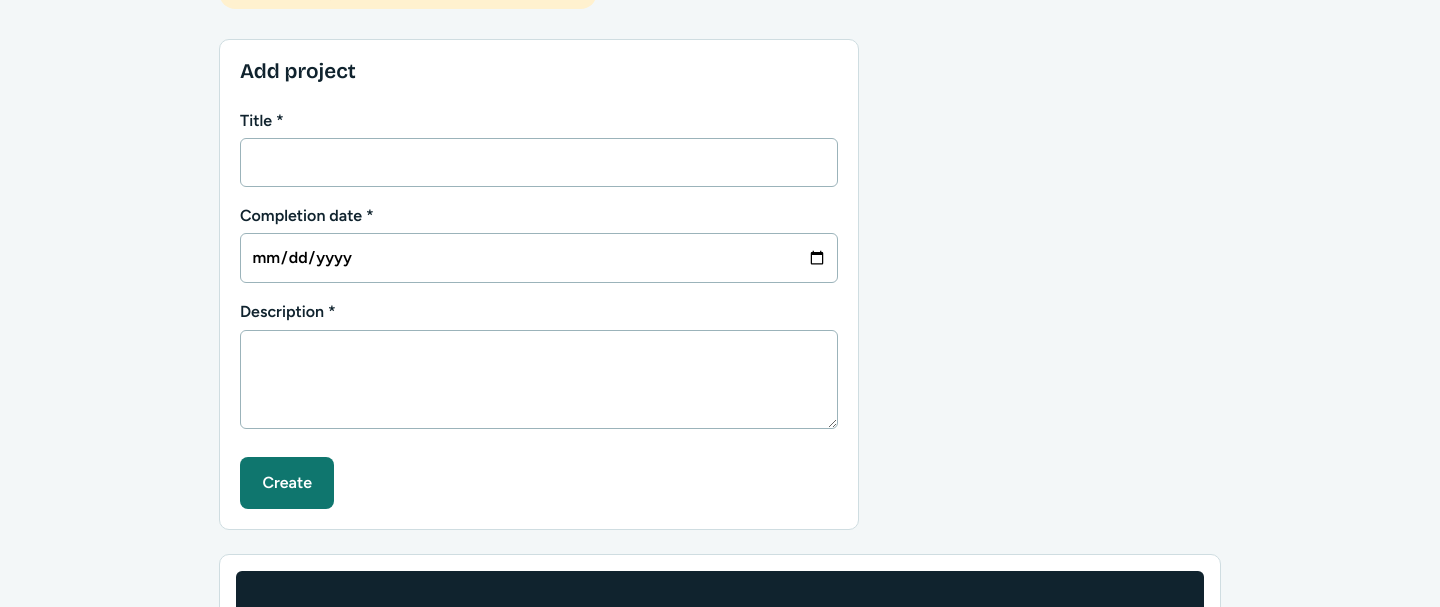
it: RecordManager on the Projects page › lets an administrator create a project: validates, sends the token, and reloads the list
The image size is (1440, 607).
Note: Empty submit: client-side validation blocks the request.
Click the button "Create" at (287, 483), box [240,457,334,509]
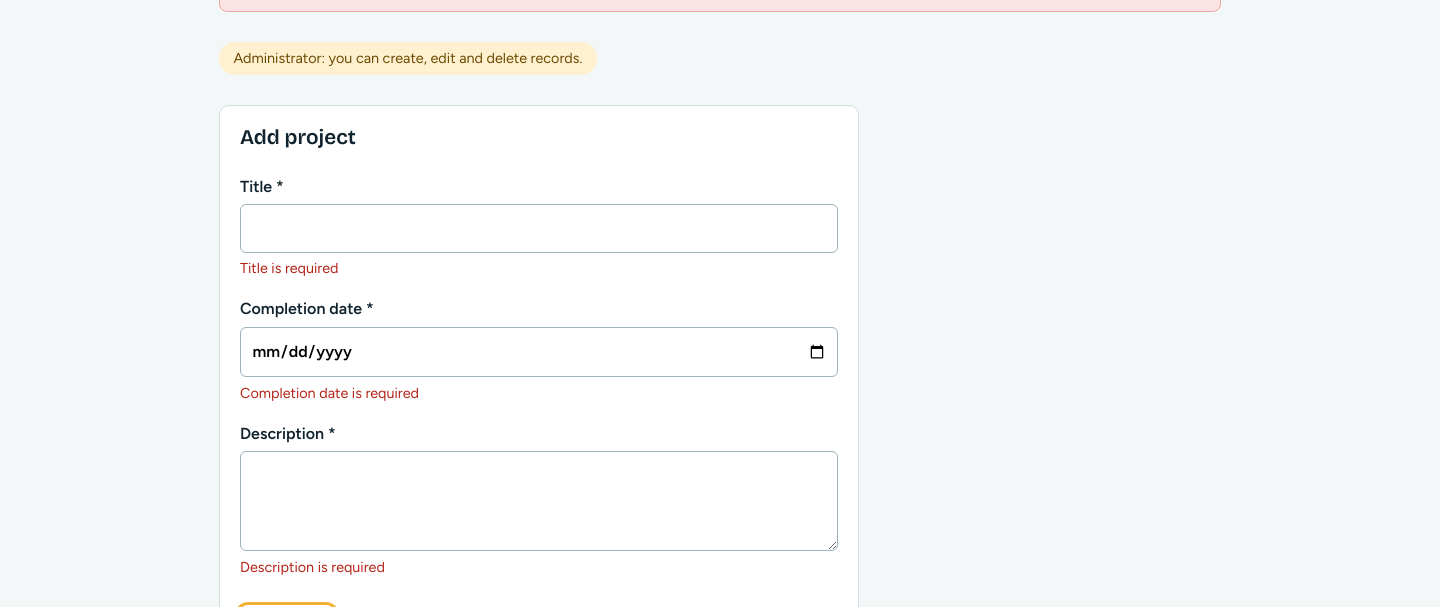
Now the text "Title is required" is shown, box [240,259,338,277]
Type "Weather App" into the field labelled "Title * Title is required" at (539, 228), box [240,204,838,253]
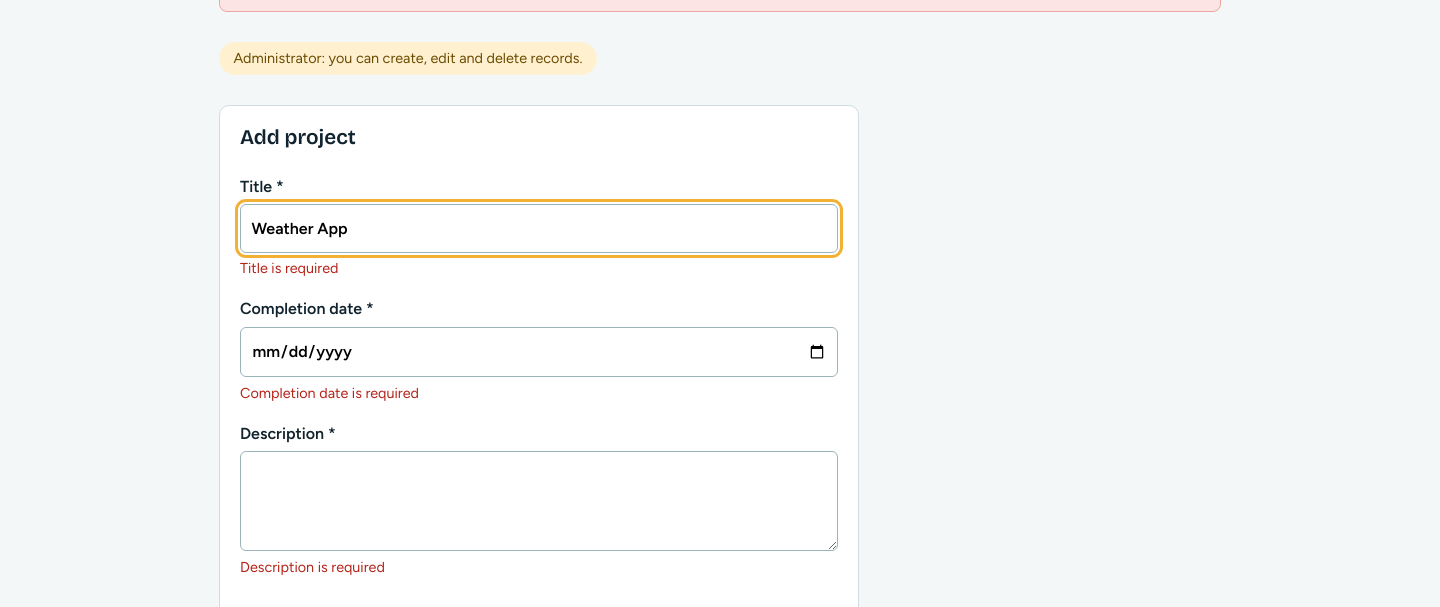
Type "2026-10-15" into the date field labelled "Completion date * Completion date is required" at (539, 352), box [240,327,838,377]
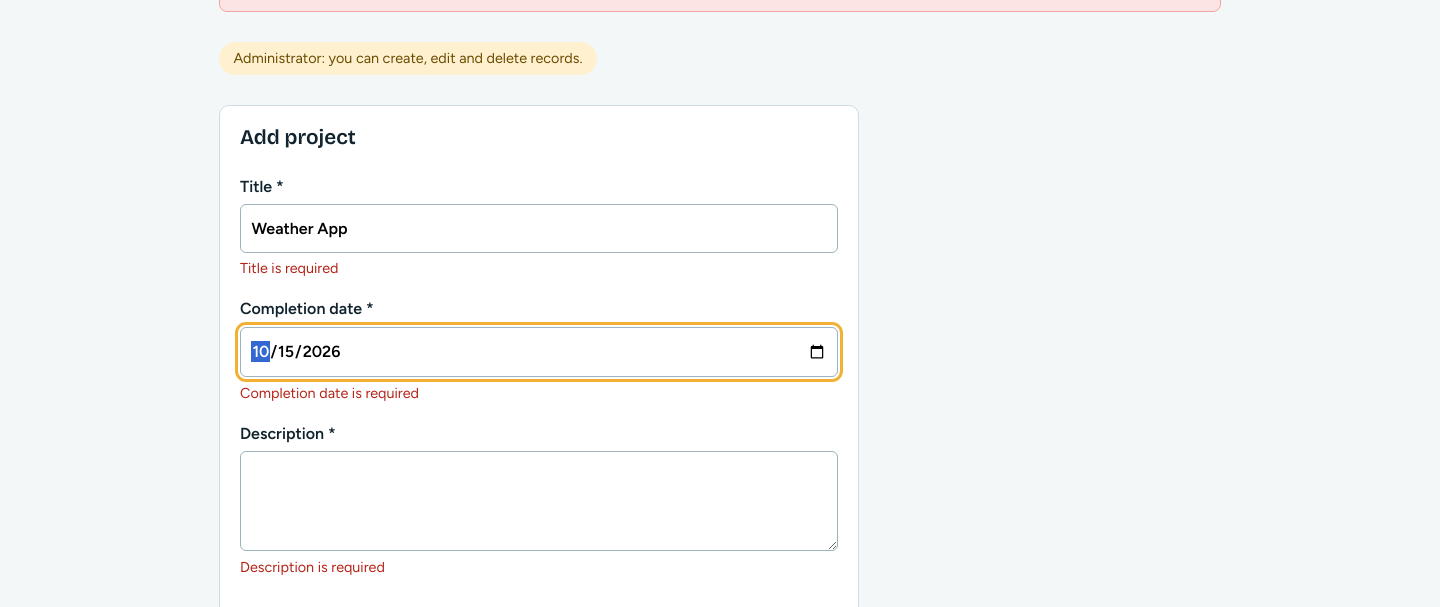
Type "Forecast dashboard" into the text box labelled "Description * Description is required" at (539, 501), box [240,452,838,551]
(page scrolled)
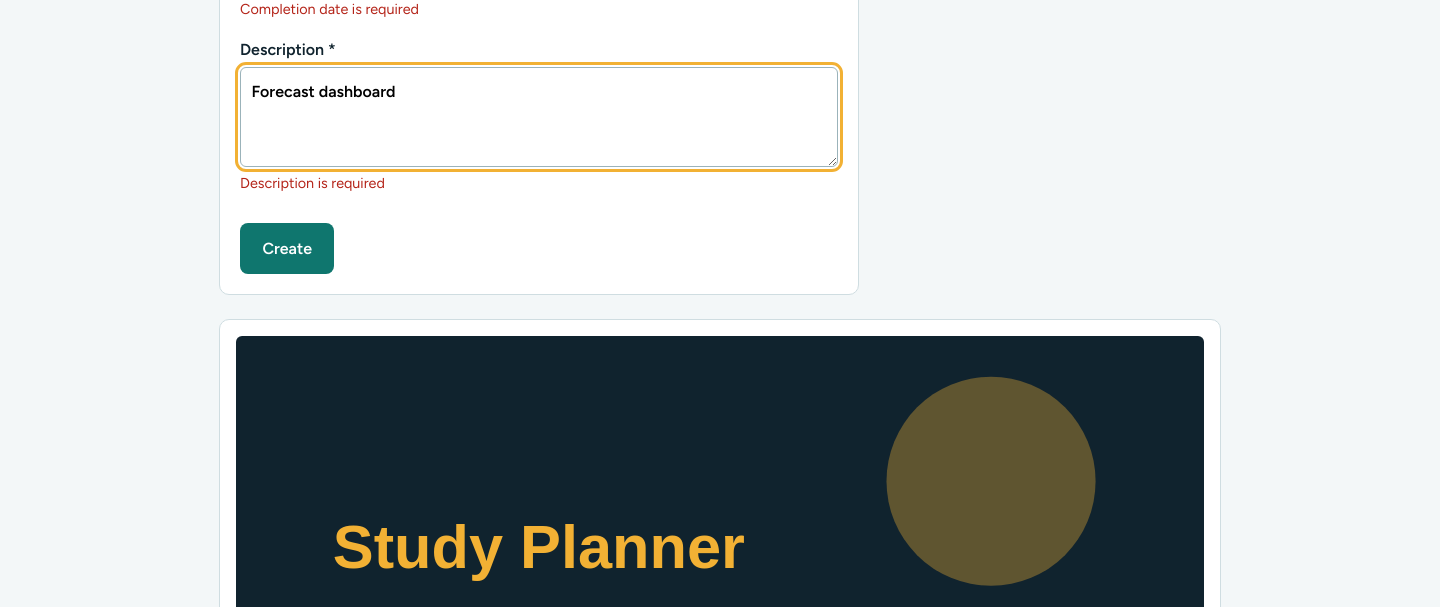
Click the button "Create" at (287, 248), box [240,223,334,274]
(page scrolled)
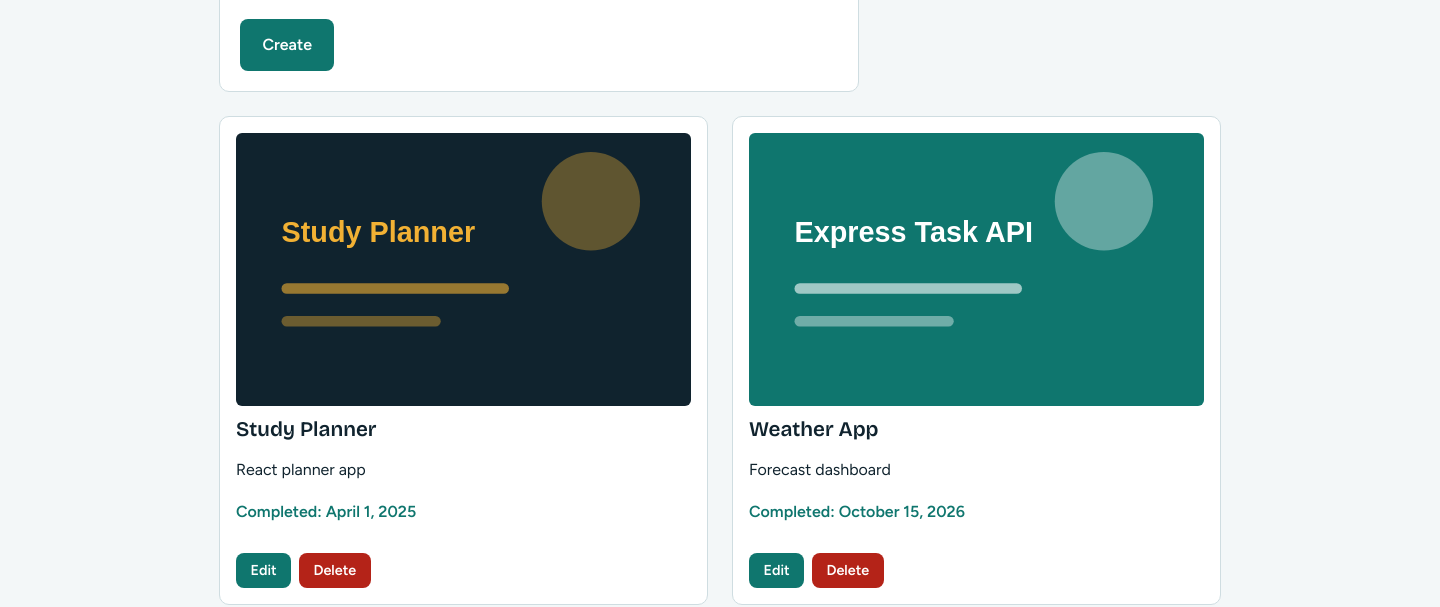
Now the button "Delete" below "October 15, 2026" is shown, box [812,553,884,588]
